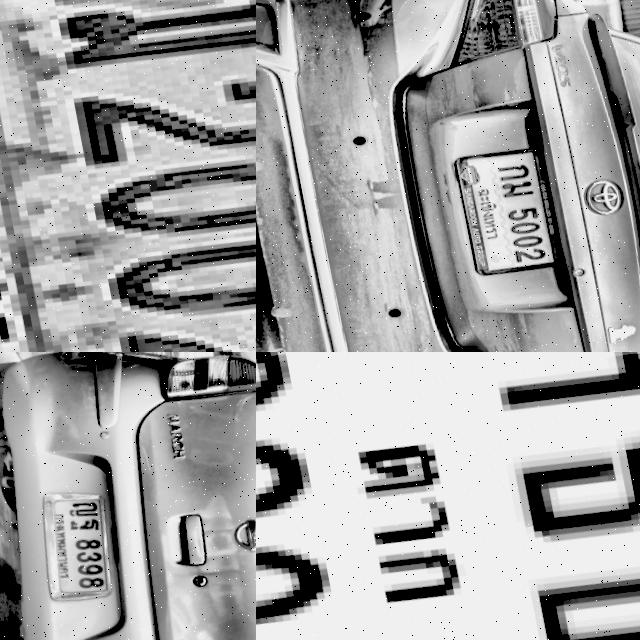license-plate: (256, 352, 640, 640), (0, 0, 256, 352), (444, 131, 570, 284), (31, 480, 130, 606)
